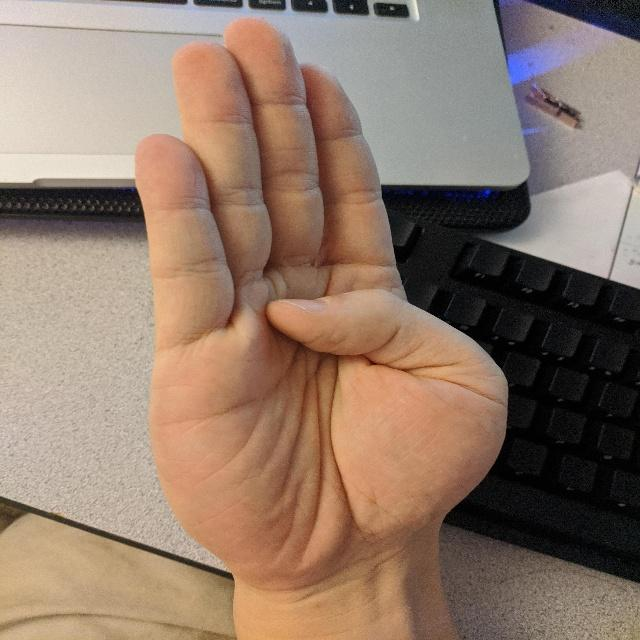B: (110, 3, 525, 587)
